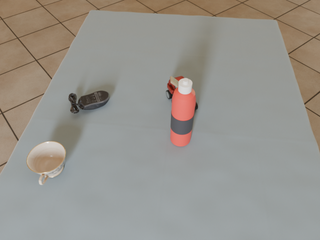bottle: (170, 78, 196, 146)
cup: (27, 141, 66, 185)
mouse: (69, 91, 110, 113)
toy_car: (166, 76, 198, 110)
